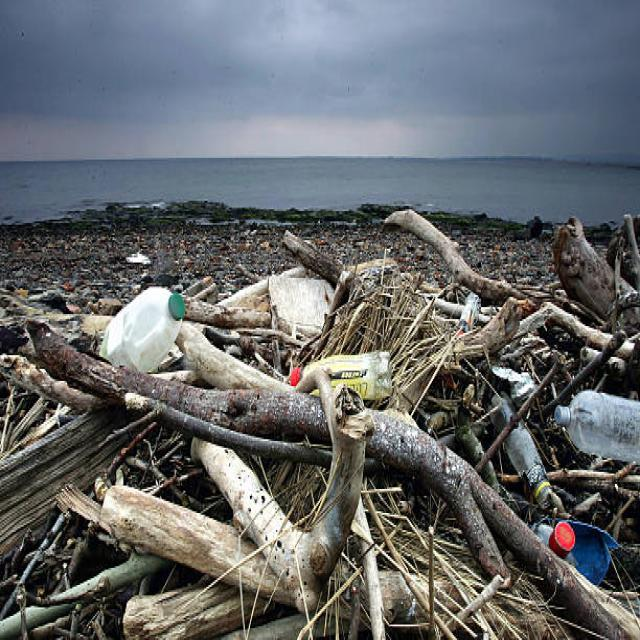glass: (490, 388, 556, 501)
plastic: (545, 393, 628, 463), (106, 302, 192, 364)
trash: (196, 292, 479, 568)
